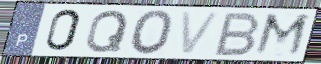0: (44, 8, 83, 54)
B: (211, 11, 263, 57)
M: (251, 11, 313, 58)
O: (128, 8, 176, 57)
Q: (84, 9, 131, 55)
V: (179, 10, 224, 57)
